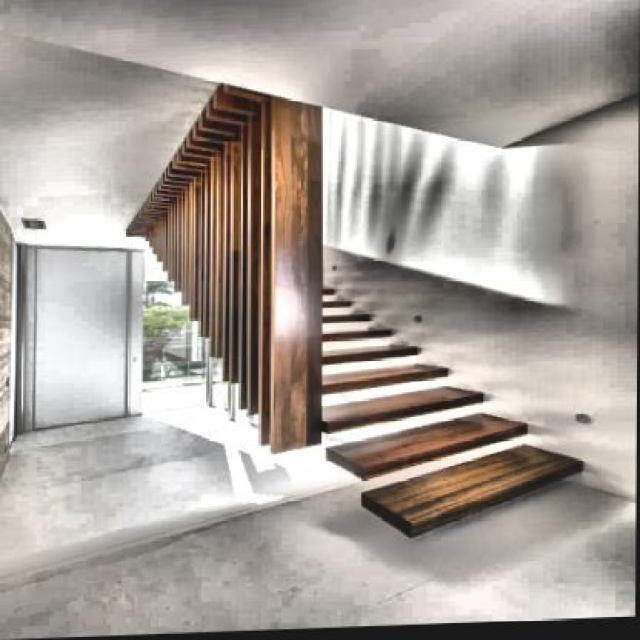stair: (292, 268, 598, 536)
